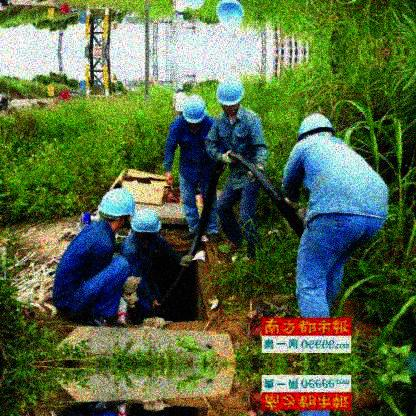helmet: (95, 190, 136, 230), (297, 112, 336, 144), (216, 75, 244, 117), (131, 213, 161, 246), (183, 94, 206, 129), (176, 85, 183, 93)
